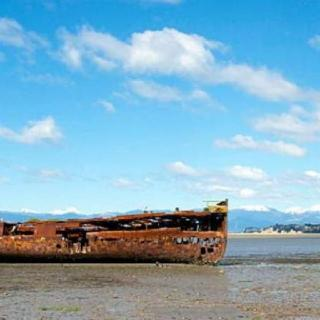Cirrostratus: (0, 13, 320, 202)
